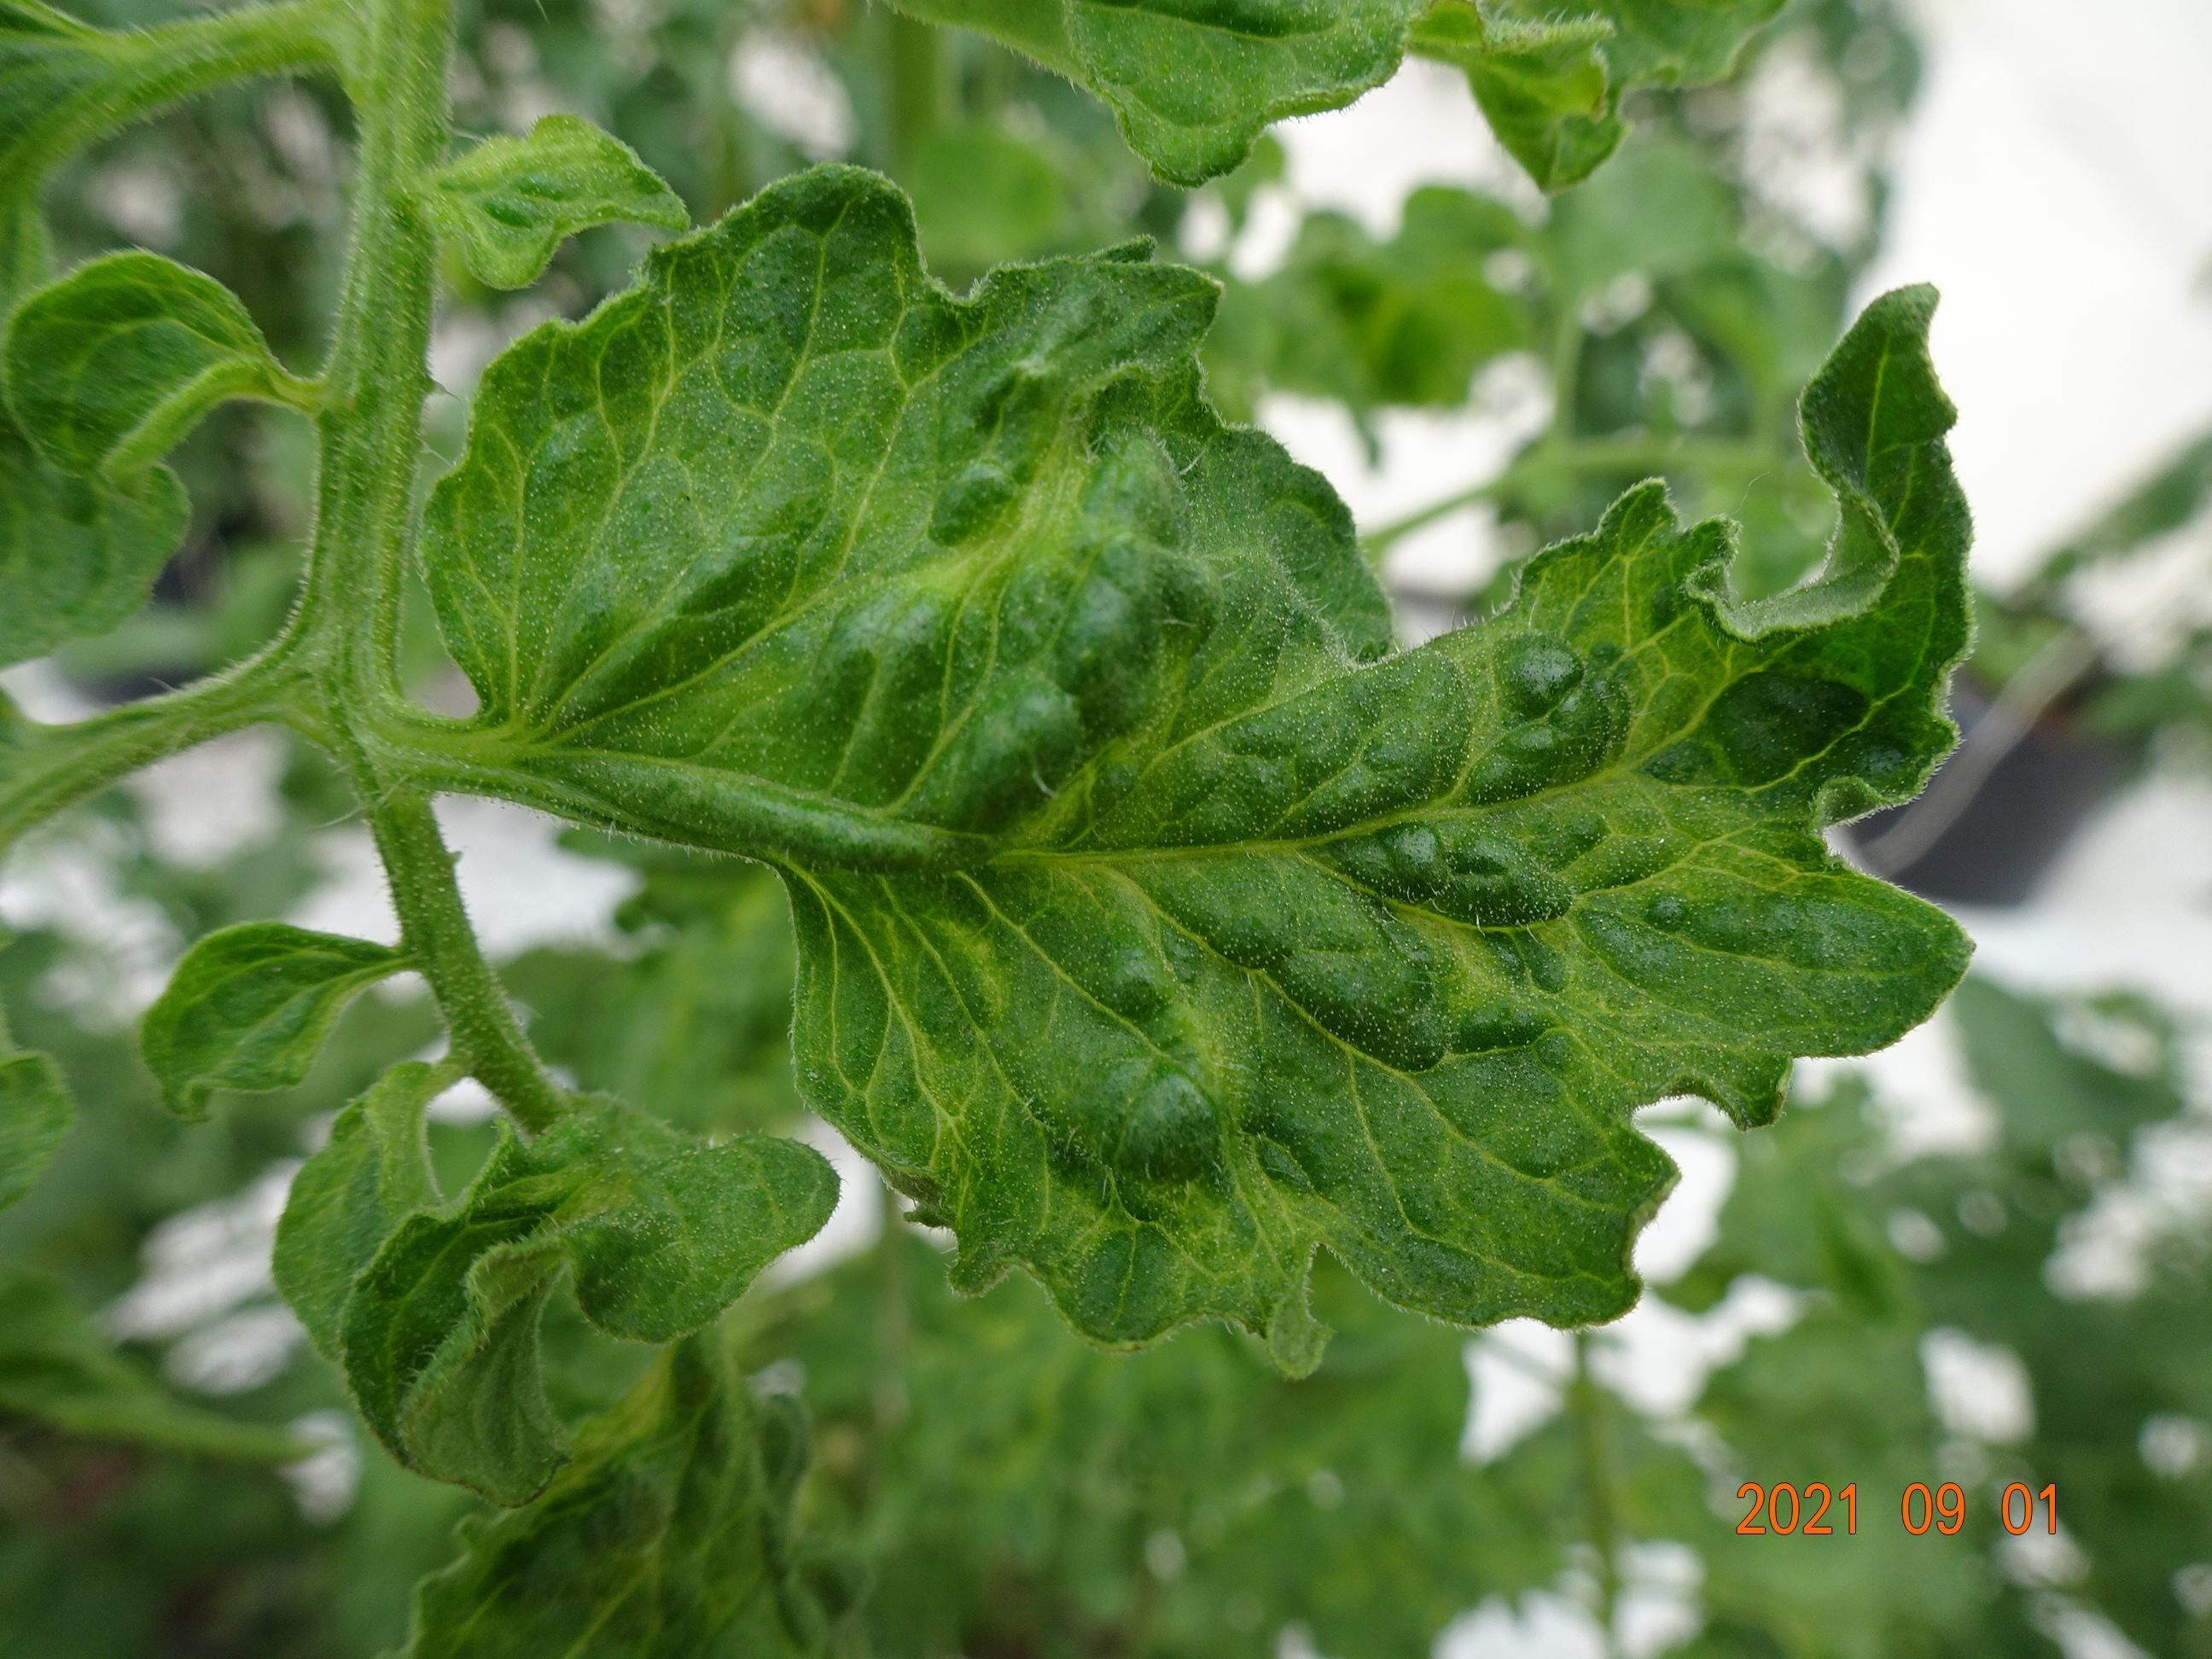Hoja rugoso: (425, 167, 1973, 1378), (3, 251, 315, 479), (420, 117, 686, 289)
Pedunculo rugoso: (280, 0, 566, 1133)
